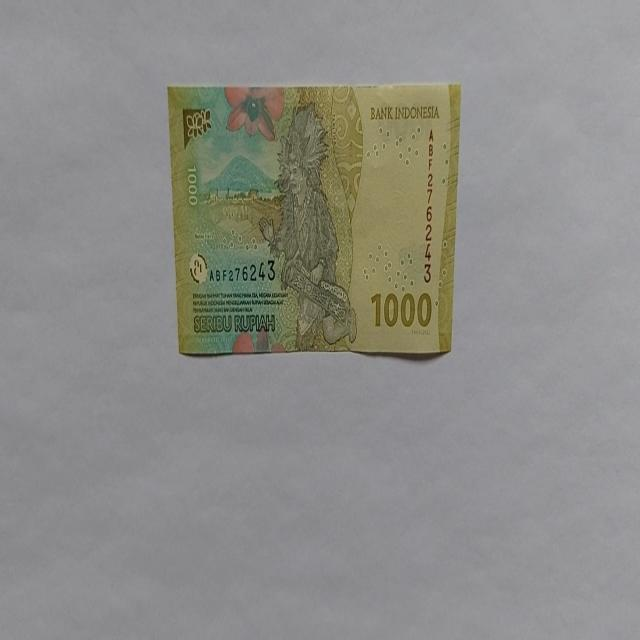seribu rupiah kertas: (166, 81, 462, 358)
